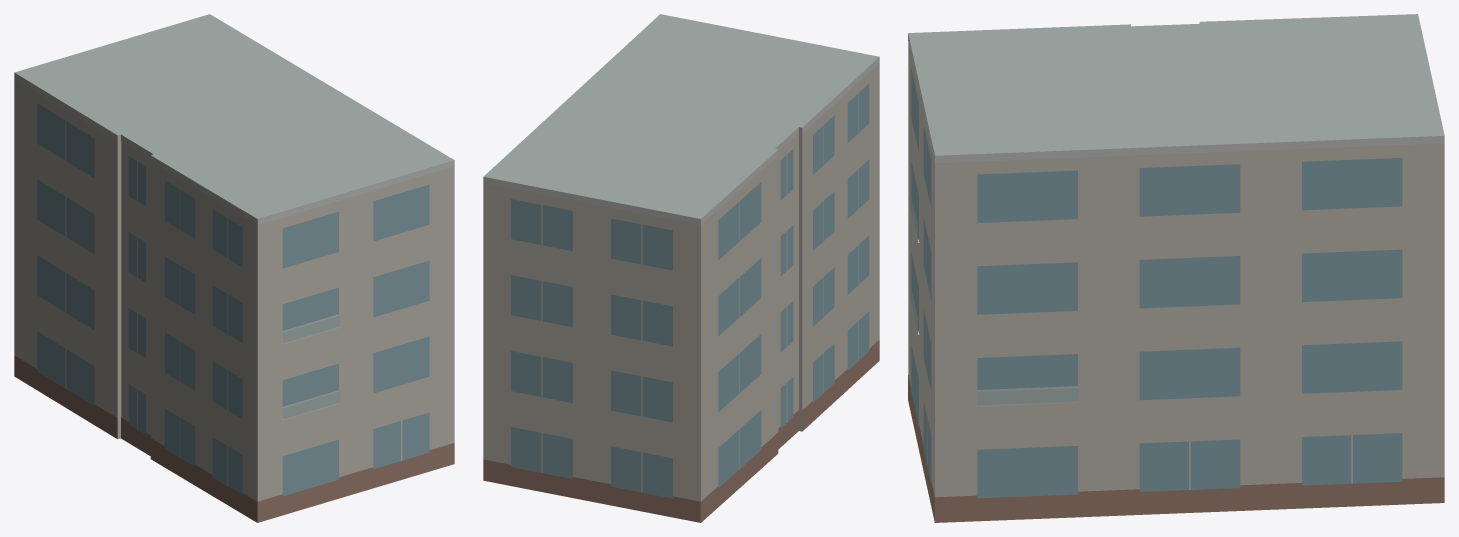
The model's file is survey-upis-32662156.glb.
3 views of the same model, side by side, from view 1: azimuth 30°, elevation 25°; view 2: azimuth 150°, elevation 25°; view 3: azimuth 270°, elevation 25° (orthographic). The views are drawn at different scales.
Parts seen in each view (by area): view 1: survey-upis-32662156.tmp; view 2: survey-upis-32662156.tmp; view 3: survey-upis-32662156.tmp.
Boxes of the visible parts, box(x1,y1,x2,y2) form: survey-upis-32662156.tmp: box(14, 14, 454, 522); survey-upis-32662156.tmp: box(483, 14, 879, 522); survey-upis-32662156.tmp: box(908, 14, 1444, 522).
Bounding box in the file's own units: 10.11 × 12.2 × 16.17.
